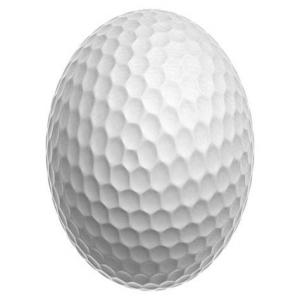Golf: (45, 9, 256, 291)
